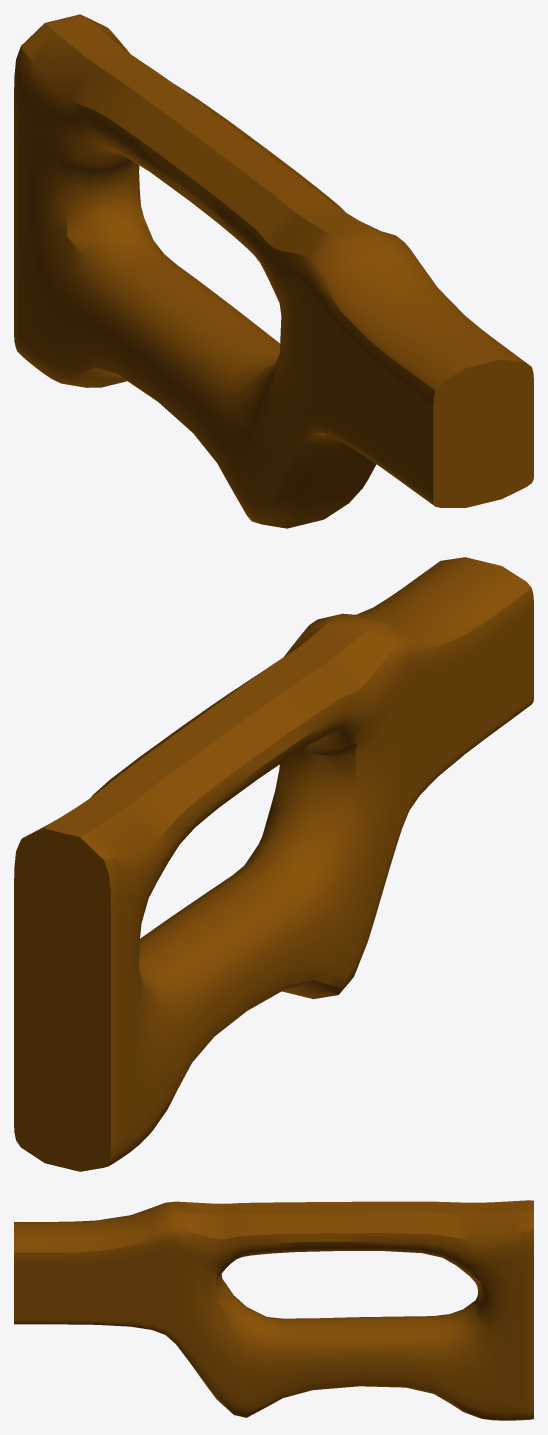
File: stock_3.fbx
The picture shows the model from 3 angles, top to bottom: view 1: azimuth 30°, elevation 25°; view 2: azimuth 150°, elevation 25°; view 3: azimuth 270°, elevation 25°; orthographic projection. The views are drawn at different scales.
Parts seen in each view (by area): view 1: stock_3; view 2: stock_3; view 3: stock_3.
Boxes of the visible parts, <box> form: stock_3: <box>14,14,533,528</box>; stock_3: <box>14,557,533,1171</box>; stock_3: <box>14,1200,533,1420</box>.
Size of the model in its own units: 170 by 541 by 1225.
